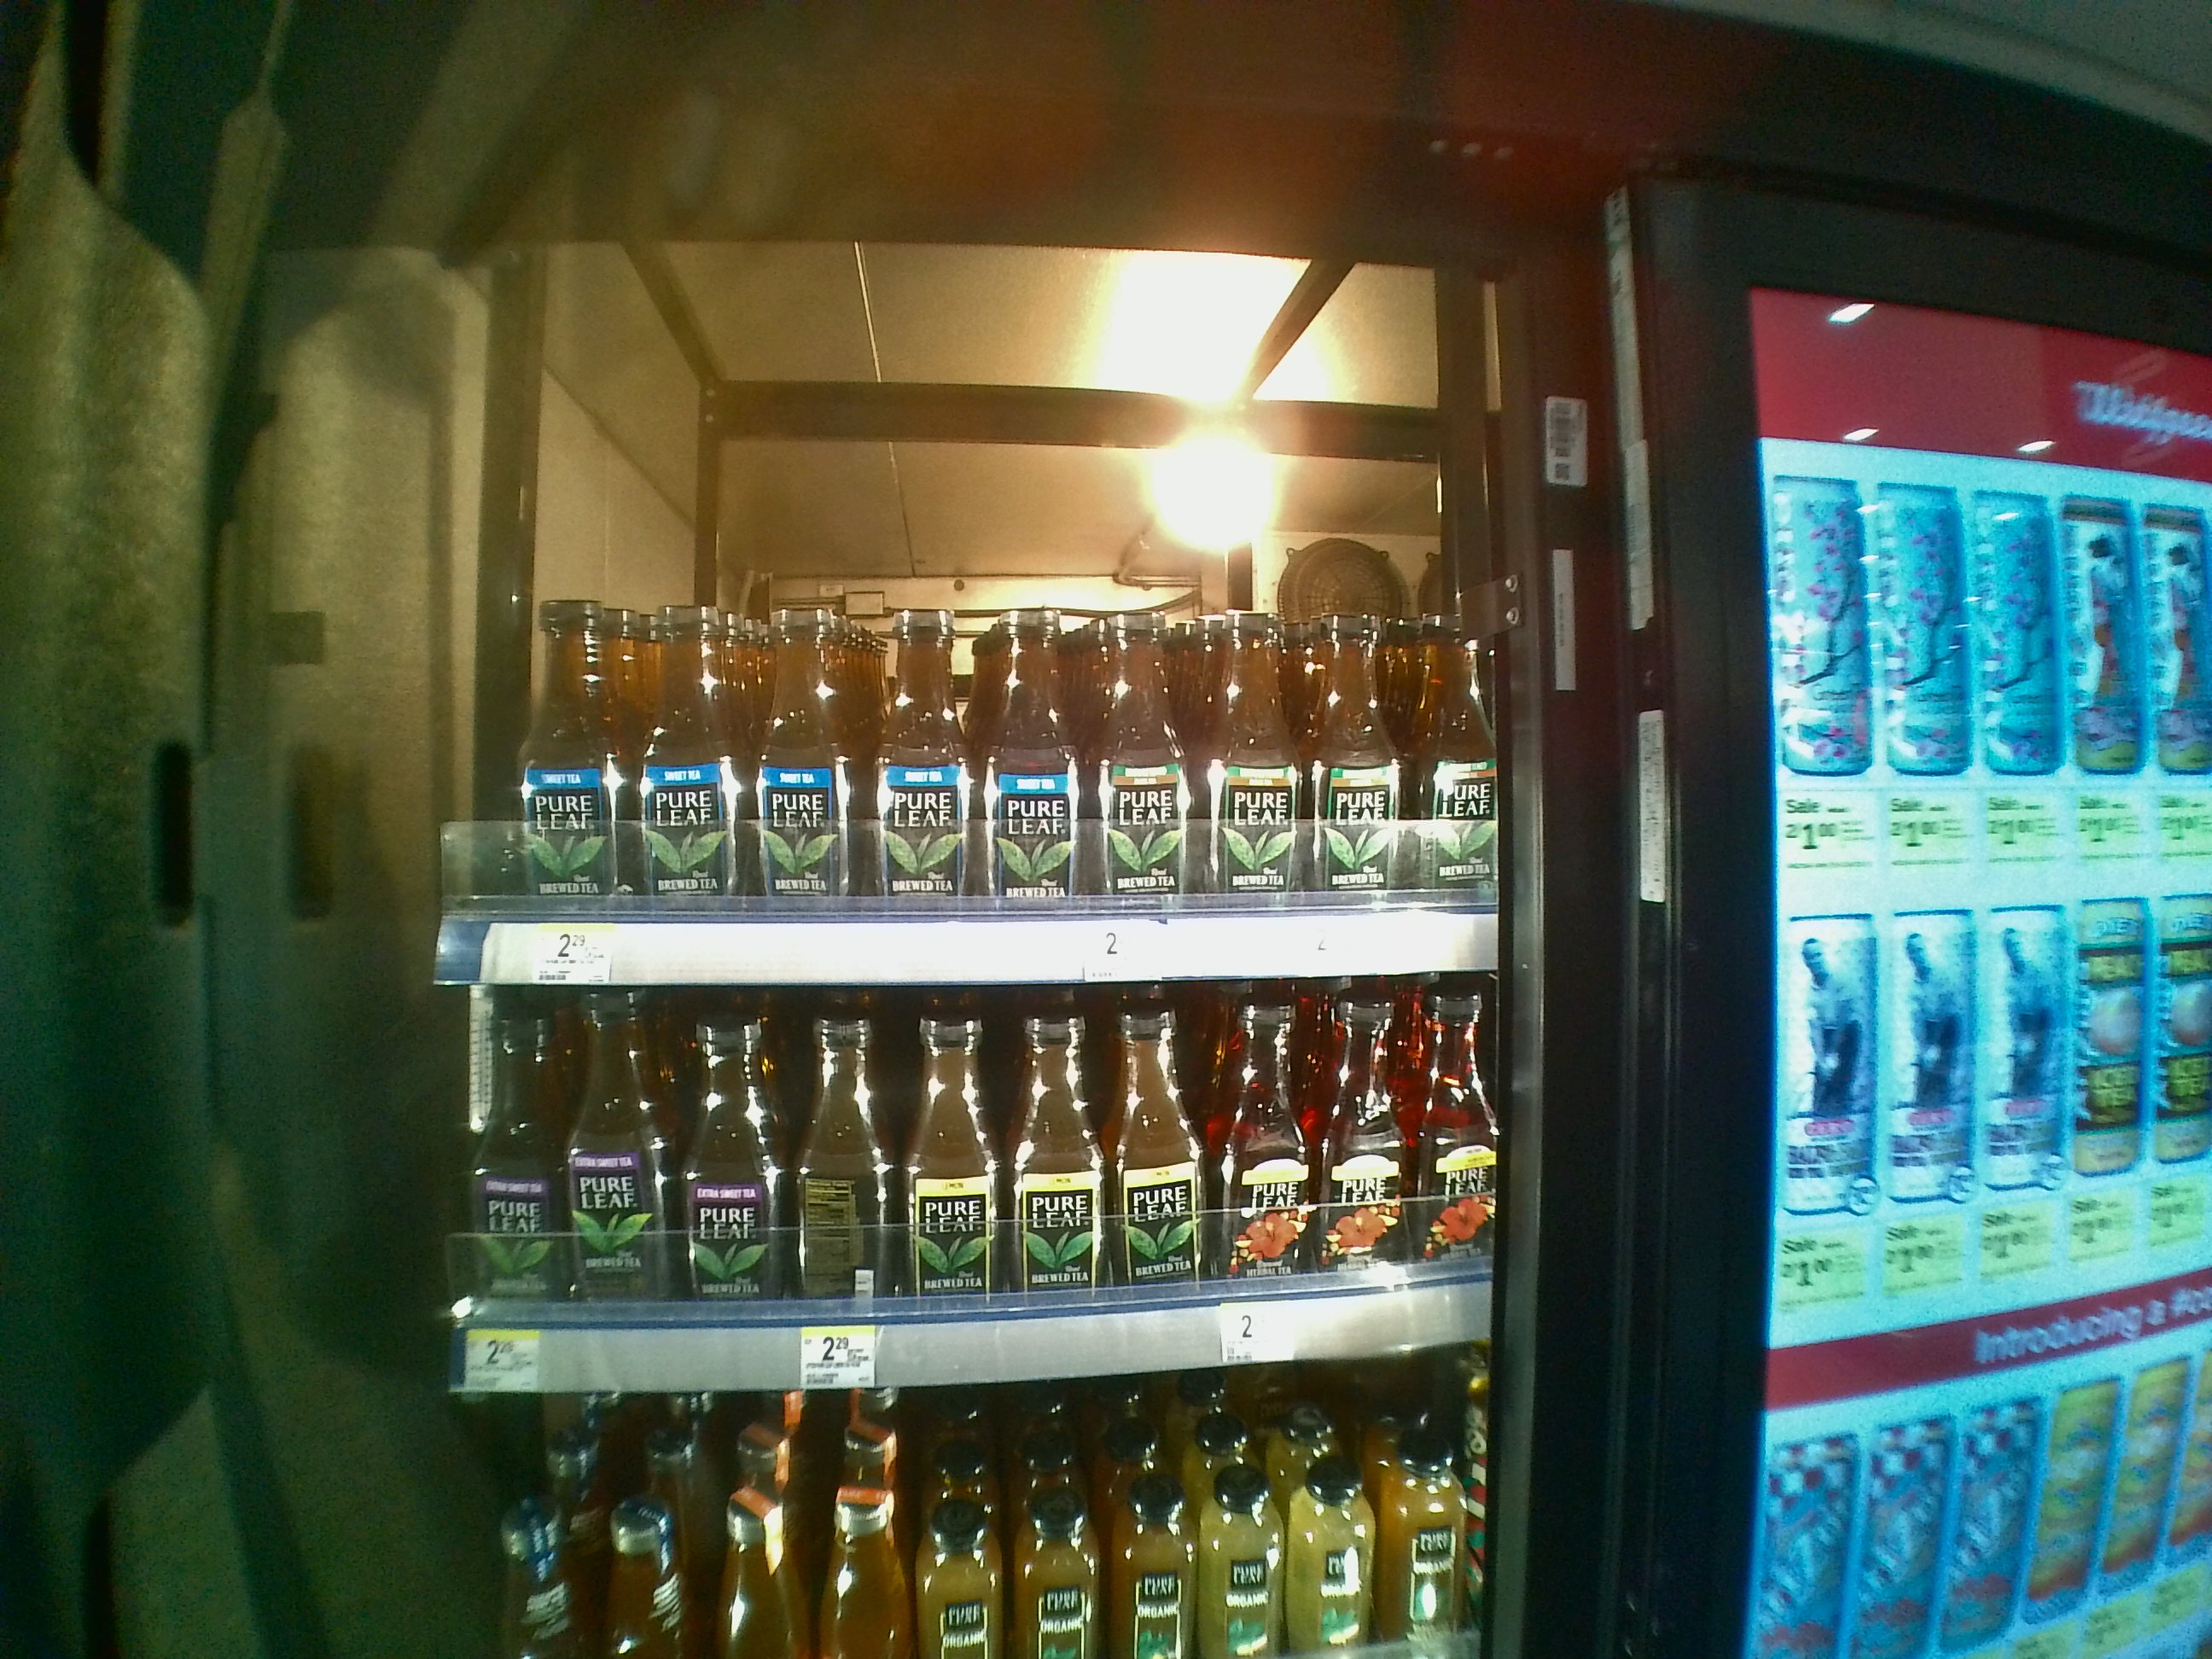shelf: (435, 272, 1501, 985), (439, 995, 1498, 1391)
